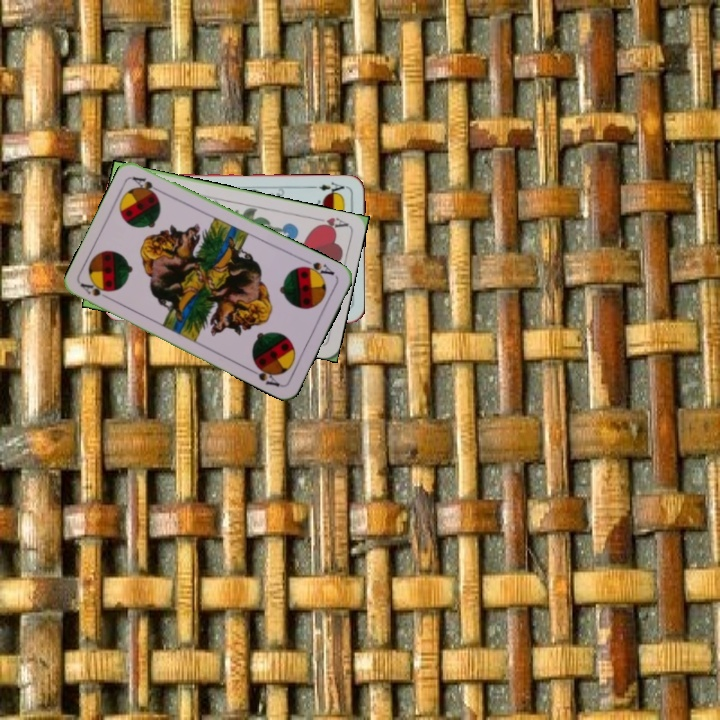EA: (309, 178, 349, 197)
HA: (310, 213, 350, 233)
SA: (77, 279, 115, 304), (297, 258, 337, 280)
